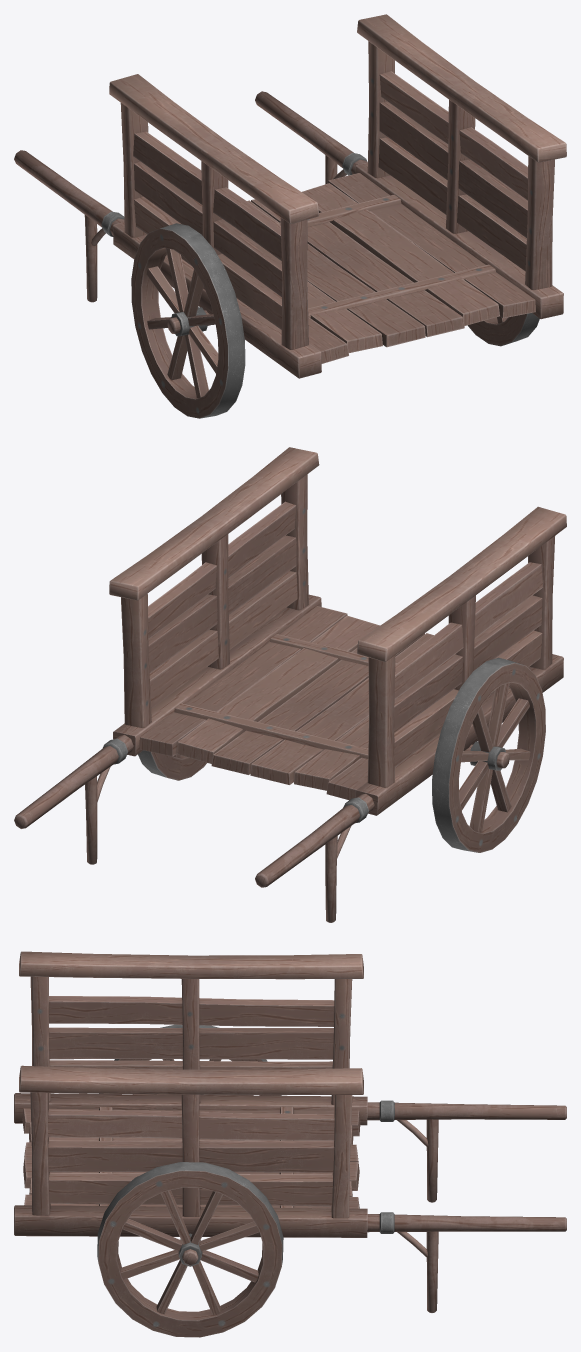
3 views of the same model, one above another, from view 1: azimuth 30°, elevation 25°; view 2: azimuth 150°, elevation 25°; view 3: azimuth 270°, elevation 25° (orthographic). The views are drawn at different scales.
Visible parts, largest first — view 1: submesh_0; view 2: submesh_0; view 3: submesh_0.
Boxes of the visible parts, x1,y1,x2,y2 form: submesh_0: (14, 14, 566, 418); submesh_0: (14, 447, 566, 922); submesh_0: (14, 951, 566, 1337).
Bounding box in the file's own units: 1.48 × 1.11 × 2.22.
Materials: 1 (1 with a texture image).
